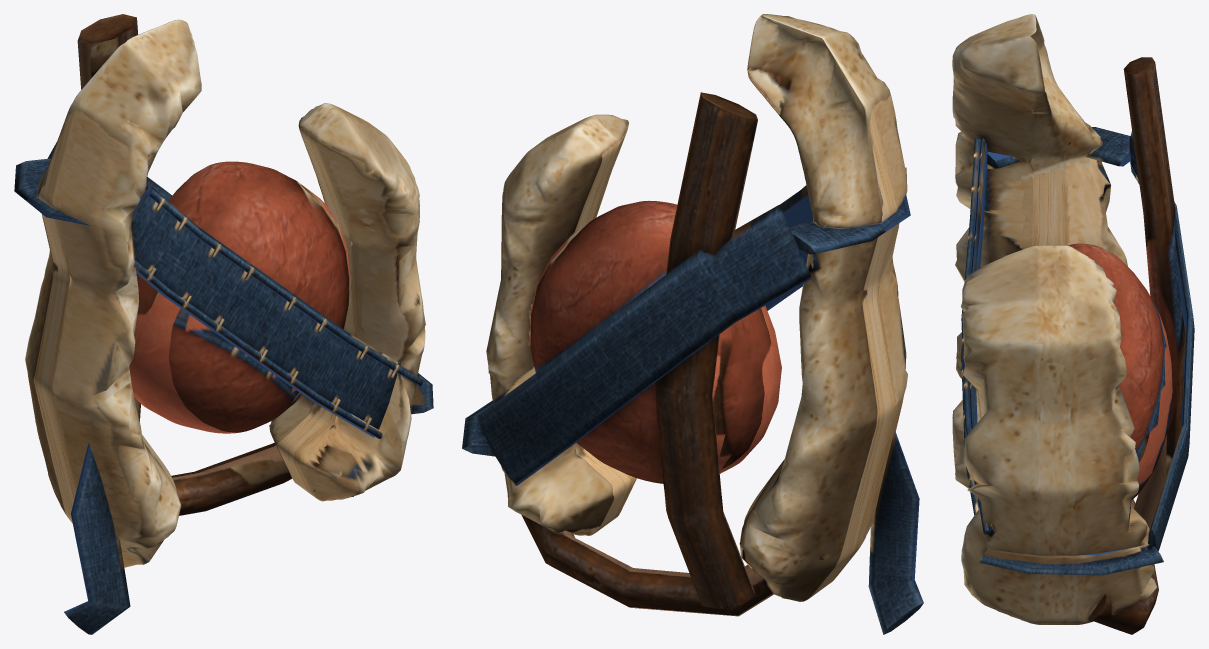
The model's file is carved_capsule_projected.obj.
3 renders of one model, left to right at view 1: azimuth 30°, elevation 25°; view 2: azimuth 150°, elevation 25°; view 3: azimuth 270°, elevation 25°, orthographic. The views are drawn at different scales.
Visible parts, largest first — view 1: BakedAssembly.001_carved_capsule_mesh_projected_surface; view 2: BakedAssembly.001_carved_capsule_mesh_projected_surface; view 3: BakedAssembly.001_carved_capsule_mesh_projected_surface.
Part boxes in pixels (x1,y1,x2,y2): BakedAssembly.001_carved_capsule_mesh_projected_surface: [14, 14, 433, 634]; BakedAssembly.001_carved_capsule_mesh_projected_surface: [462, 14, 923, 634]; BakedAssembly.001_carved_capsule_mesh_projected_surface: [952, 14, 1194, 634].
Bounding box in the file's own units: 2.52 × 3.59 × 1.37.
Materials: 1 (1 with a texture image).
